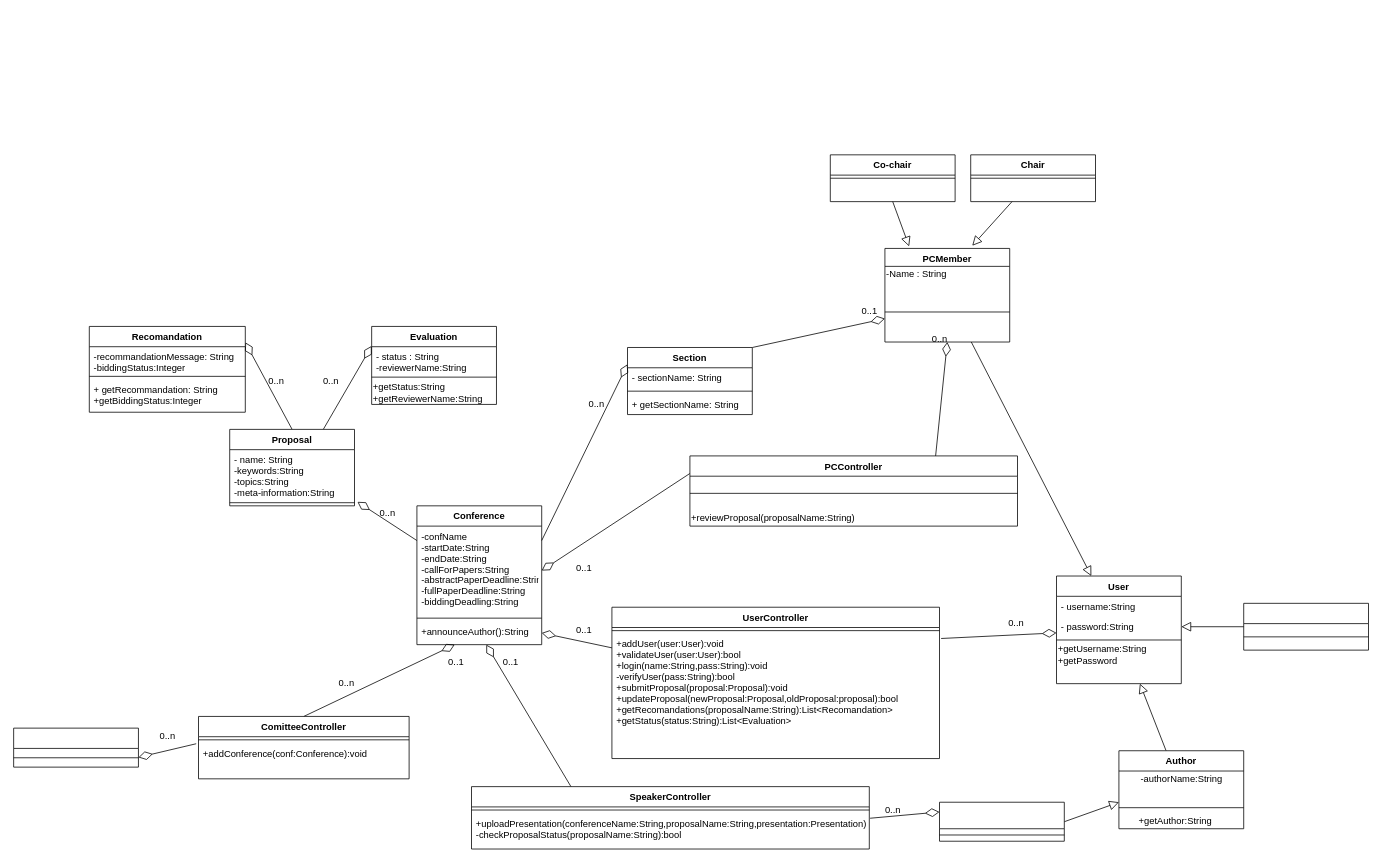
This 1382x865 diagram has some shape labels left out. Here are the shapes that lost their labels. From the top down, the centre of each, then its label:
[1306,626]: Listeners
[75,747]: ComitteeMember
[1001,821]: Speaker
